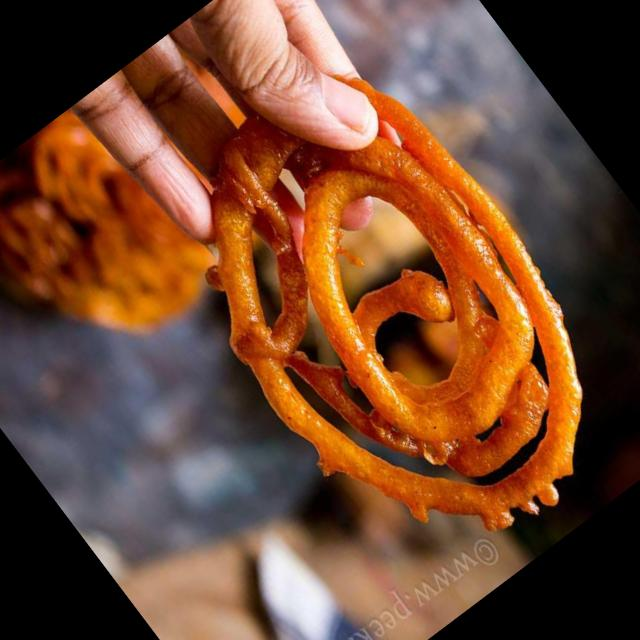jalebi: (151, 40, 640, 567), (0, 118, 189, 351)
